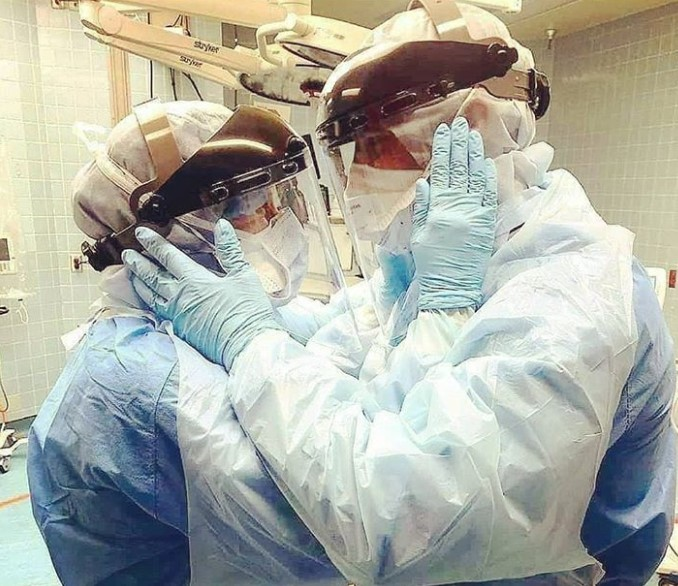face_with_mask: (322, 10, 551, 256), (92, 103, 314, 326)
